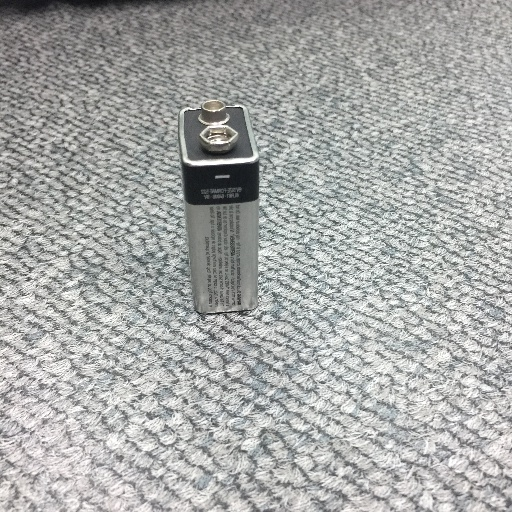Battery_3: (172, 84, 282, 341)
